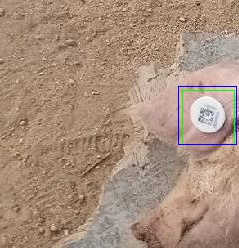text: (182, 90, 234, 144)
